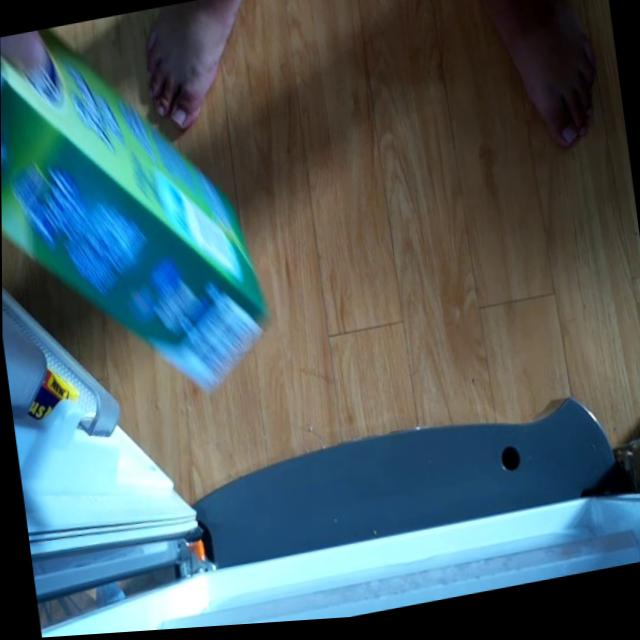milk: (0, 0, 279, 439)
